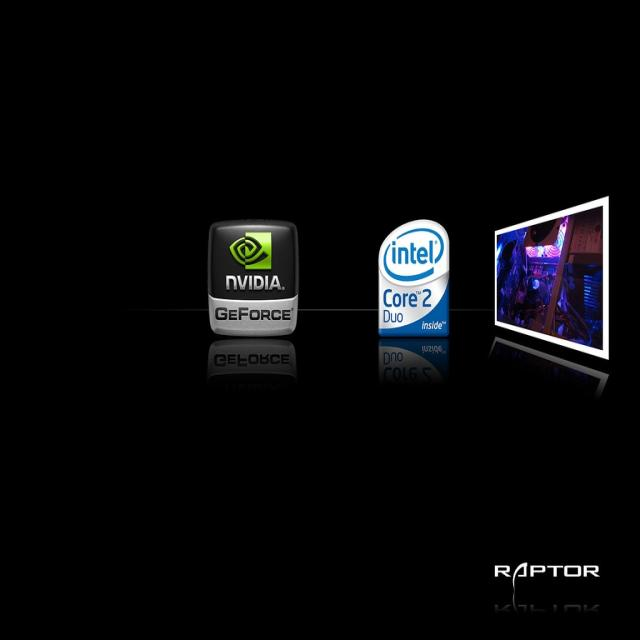nvidia: (229, 233, 274, 273)
